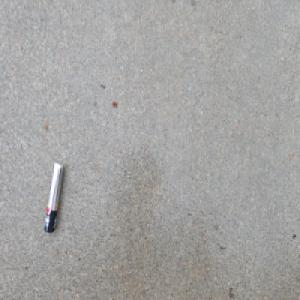Battery: (43, 160, 65, 236)
